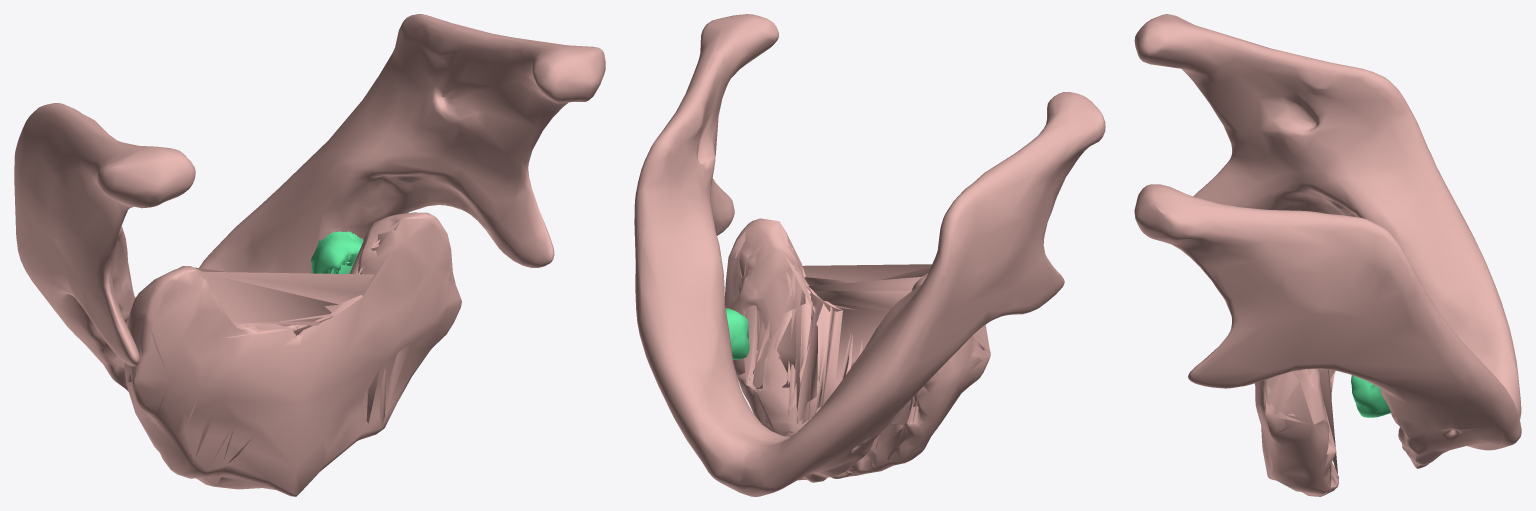
File: organ-teeth-mouth.glb
The picture shows the model from 3 angles, left to right: view 1: azimuth 30°, elevation 25°; view 2: azimuth 150°, elevation 25°; view 3: azimuth 270°, elevation 25°; orthographic projection. The views are drawn at different scales.
Visible parts, largest first — view 1: Mandible_Jaw, Gingiva_Gums, Teeth_Arch; view 2: Mandible_Jaw, Gingiva_Gums, Teeth_Arch; view 3: Mandible_Jaw, Gingiva_Gums, Teeth_Arch.
Boxes of the visible parts, left/top/right/bottom form: Mandible_Jaw: left=14, top=14, right=605, bottom=391; Gingiva_Gums: left=124, top=212, right=461, bottom=496; Teeth_Arch: left=311, top=231, right=363, bottom=273; Mandible_Jaw: left=634, top=14, right=1105, bottom=496; Gingiva_Gums: left=724, top=218, right=990, bottom=478; Teeth_Arch: left=725, top=308, right=749, bottom=359; Mandible_Jaw: left=1134, top=14, right=1521, bottom=468; Gingiva_Gums: left=1255, top=369, right=1338, bottom=496; Teeth_Arch: left=1351, top=375, right=1390, bottom=417.
Size of the model in its own units: 0.5 by 0.4313 by 0.3969.
